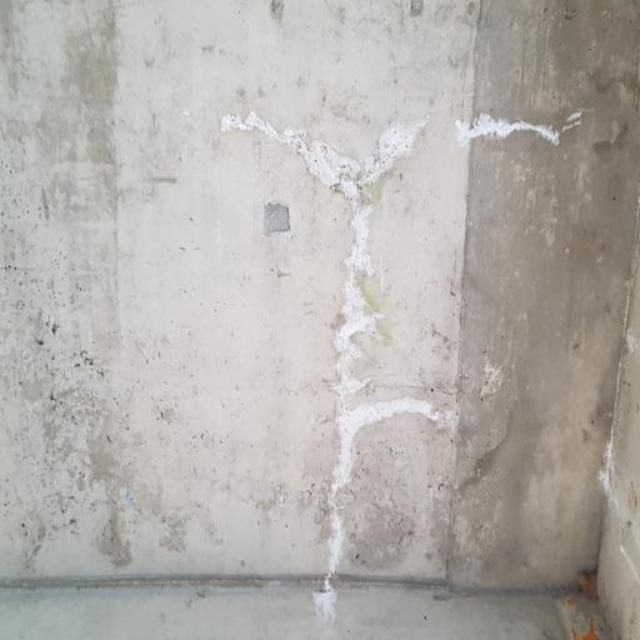D01: (290, 125, 449, 605), (458, 114, 559, 143)
